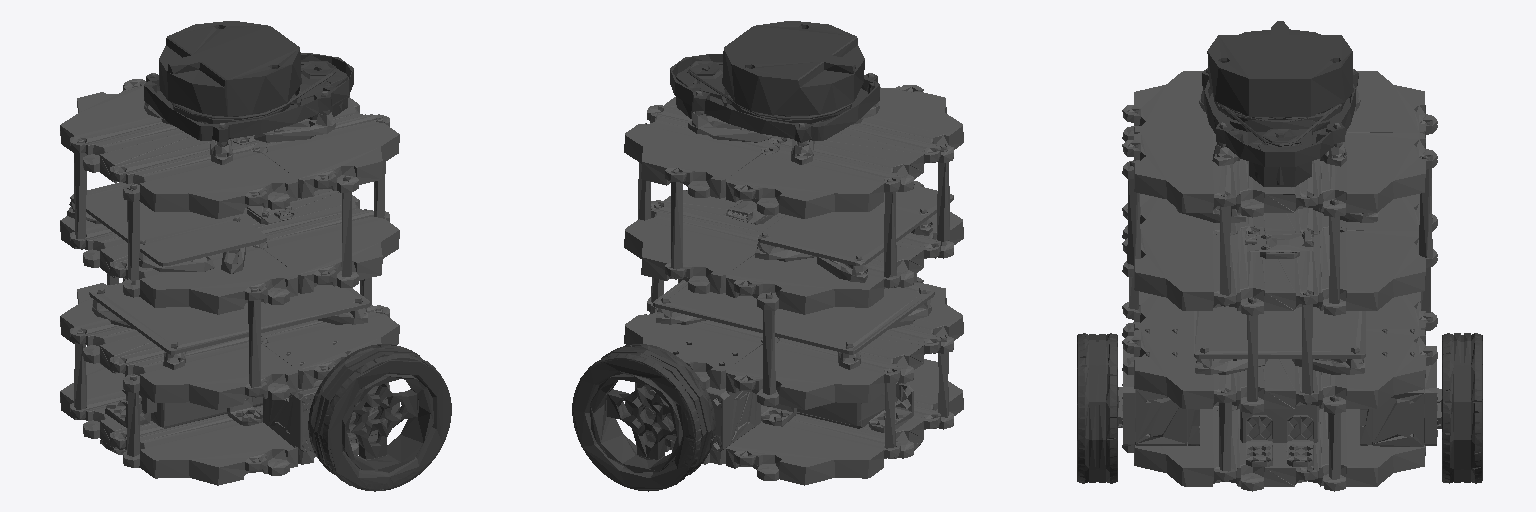
robot.urdf — turtlebot3_burger:
<?xml version="1.0" ?>
<!-- =================================================================================== -->
<!-- |    This document was autogenerated by xacro from /tmp/claude-0/-home-claude/8f5dd28e-fe63-5f45-8f7e-d1a0395364a9/scratchpad/repos/tb3/turtlebot3_description/urdf/turtlebot3_burger.urdf | -->
<!-- |    EDITING THIS FILE BY HAND IS NOT RECOMMENDED                                 | -->
<!-- =================================================================================== -->
<robot name="turtlebot3_burger">
  <!-- <xacro:include filename="$(find turtlebot3_description)/urdf/common_properties.urdf"/> -->
  <!-- Init colour -->
  <material name="black">
    <color rgba="0.0 0.0 0.0 1.0"/>
  </material>
  <material name="dark">
    <color rgba="0.3 0.3 0.3 1.0"/>
  </material>
  <material name="light_black">
    <color rgba="0.4 0.4 0.4 1.0"/>
  </material>
  <material name="blue">
    <color rgba="0.0 0.0 0.8 1.0"/>
  </material>
  <material name="green">
    <color rgba="0.0 0.8 0.0 1.0"/>
  </material>
  <material name="grey">
    <color rgba="0.5 0.5 0.5 1.0"/>
  </material>
  <material name="orange">
    <color rgba="1.0 0.4235 0.0392 1.0"/>
  </material>
  <material name="brown">
    <color rgba="0.8706 0.8118 0.7647 1.0"/>
  </material>
  <material name="red">
    <color rgba="0.8 0.0 0.0 1.0"/>
  </material>
  <material name="white">
    <color rgba="1.0 1.0 1.0 1.0"/>
  </material>
  <link name="base_footprint"/>
  <joint name="base_joint" type="fixed">
    <parent link="base_footprint"/>
    <child link="base_link"/>
    <origin rpy="0 0 0" xyz="0.0 0.0 0.010"/>
  </joint>
  <link name="base_link">
    <visual>
      <origin rpy="0 0 0" xyz="-0.032 0 0.0"/>
      <geometry>
        <mesh filename="package://turtlebot3_description/meshes/bases/burger_base.stl" scale="0.001 0.001 0.001"/>
      </geometry>
      <material name="light_black"/>
    </visual>
    <collision>
      <origin rpy="0 0 0" xyz="-0.032 0 0.070"/>
      <geometry>
        <box size="0.140 0.140 0.143"/>
      </geometry>
    </collision>
    <inertial>
      <origin rpy="0 0 0" xyz="0 0 0"/>
      <mass value="8.2573504e-01"/>
      <inertia ixx="2.2124416e-03" ixy="-1.2294101e-05" ixz="3.4938785e-05" iyy="2.1193702e-03" iyz="-5.0120904e-06" izz="2.0064271e-03"/>
    </inertial>
  </link>
  <joint name="wheel_left_joint" type="continuous">
    <parent link="base_link"/>
    <child link="wheel_left_link"/>
    <origin rpy="-1.57 0 0" xyz="0.0 0.08 0.023"/>
    <axis xyz="0 0 1"/>
  </joint>
  <link name="wheel_left_link">
    <visual>
      <origin rpy="1.57 0 0" xyz="0 0 0"/>
      <geometry>
        <mesh filename="package://turtlebot3_description/meshes/wheels/left_tire.stl" scale="0.001 0.001 0.001"/>
      </geometry>
      <material name="dark"/>
    </visual>
    <collision>
      <origin rpy="0 0 0" xyz="0 0 0"/>
      <geometry>
        <cylinder length="0.018" radius="0.033"/>
      </geometry>
    </collision>
    <inertial>
      <origin xyz="0 0 0"/>
      <mass value="2.8498940e-02"/>
      <inertia ixx="1.1175580e-05" ixy="-4.2369783e-11" ixz="-5.9381719e-09" iyy="1.1192413e-05" iyz="-1.4400107e-11" izz="2.0712558e-05"/>
    </inertial>
  </link>
  <joint name="wheel_right_joint" type="continuous">
    <parent link="base_link"/>
    <child link="wheel_right_link"/>
    <origin rpy="-1.57 0 0" xyz="0.0 -0.080 0.023"/>
    <axis xyz="0 0 1"/>
  </joint>
  <link name="wheel_right_link">
    <visual>
      <origin rpy="1.57 0 0" xyz="0 0 0"/>
      <geometry>
        <mesh filename="package://turtlebot3_description/meshes/wheels/right_tire.stl" scale="0.001 0.001 0.001"/>
      </geometry>
      <material name="dark"/>
    </visual>
    <collision>
      <origin rpy="0 0 0" xyz="0 0 0"/>
      <geometry>
        <cylinder length="0.018" radius="0.033"/>
      </geometry>
    </collision>
    <inertial>
      <origin xyz="0 0 0"/>
      <mass value="2.8498940e-02"/>
      <inertia ixx="1.1175580e-05" ixy="-4.2369783e-11" ixz="-5.9381719e-09" iyy="1.1192413e-05" iyz="-1.4400107e-11" izz="2.0712558e-05"/>
    </inertial>
  </link>
  <joint name="caster_back_joint" type="fixed">
    <parent link="base_link"/>
    <child link="caster_back_link"/>
    <origin rpy="-1.57 0 0" xyz="-0.081 0 -0.004"/>
  </joint>
  <link name="caster_back_link">
    <collision>
      <origin rpy="0 0 0" xyz="0 0.001 0"/>
      <geometry>
        <box size="0.030 0.009 0.020"/>
      </geometry>
    </collision>
    <inertial>
      <origin xyz="0 0 0"/>
      <mass value="0.005"/>
      <inertia ixx="0.001" ixy="0.0" ixz="0.0" iyy="0.001" iyz="0.0" izz="0.001"/>
    </inertial>
  </link>
  <joint name="imu_joint" type="fixed">
    <parent link="base_link"/>
    <child link="imu_link"/>
    <origin rpy="0 0 0" xyz="-0.032 0 0.068"/>
  </joint>
  <link name="imu_link"/>
  <joint name="scan_joint" type="fixed">
    <parent link="base_link"/>
    <child link="base_scan"/>
    <origin rpy="0 0 0" xyz="-0.032 0 0.172"/>
  </joint>
  <link name="base_scan">
    <visual>
      <origin rpy="0 0 0" xyz="0 0 0.0"/>
      <geometry>
        <mesh filename="package://turtlebot3_description/meshes/sensors/lds.stl" scale="0.001 0.001 0.001"/>
      </geometry>
      <material name="dark"/>
    </visual>
    <collision>
      <origin rpy="0 0 0" xyz="0.015 0 -0.0065"/>
      <geometry>
        <cylinder length="0.0315" radius="0.055"/>
      </geometry>
    </collision>
    <inertial>
      <mass value="0.114"/>
      <origin xyz="0 0 0"/>
      <inertia ixx="0.001" ixy="0.0" ixz="0.0" iyy="0.001" iyz="0.0" izz="0.001"/>
    </inertial>
  </link>
</robot>

--- Facts derived from the render (not from the file) ---
Views: 3 orthographic renders of the robot side by side, from view 1: azimuth 30°, elevation 25°; view 2: azimuth 150°, elevation 25°; view 3: azimuth 270°, elevation 25°.
Model turtlebot3_burger with 7 links and 6 joints (2 continuous, 4 fixed), rooted at base_footprint, posed every joint at zero.
Visible links, largest first — view 1: base_link, base_scan, wheel_right_link; view 2: base_link, base_scan, wheel_left_link; view 3: base_link, base_scan, wheel_left_link, wheel_right_link.
Boxes of the visible links, x1,y1,x2,y2 form: base_link: (60,73,399,485); base_scan: (144,21,353,142); wheel_right_link: (308,344,451,491); base_link: (624,73,963,485); base_scan: (670,21,879,142); wheel_left_link: (572,344,715,491); base_link: (1118,68,1441,491); base_scan: (1202,21,1358,186); wheel_left_link: (1442,333,1482,483); wheel_right_link: (1077,333,1117,483).
Bounding box of the posed robot: 0.1382 × 0.1781 × 0.1911 m (x, y, z).
4 mesh visuals loaded from 4 distinct referenced files (4 binary STL).
